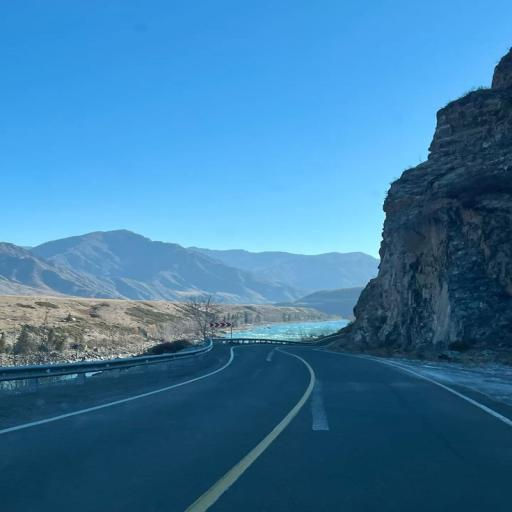glass_wall: (1, 337, 512, 511)
